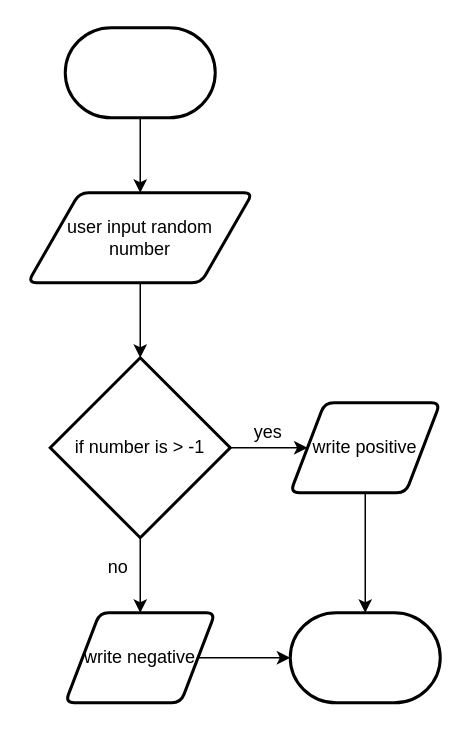
Some shapes in this 467 by 729 pixel diagram are drawn without their labels. The box of each missing label's shape, as (x1, y1, x2, y2) in pixels:
start: (63, 26, 216, 118)
stop: (288, 610, 441, 704)
